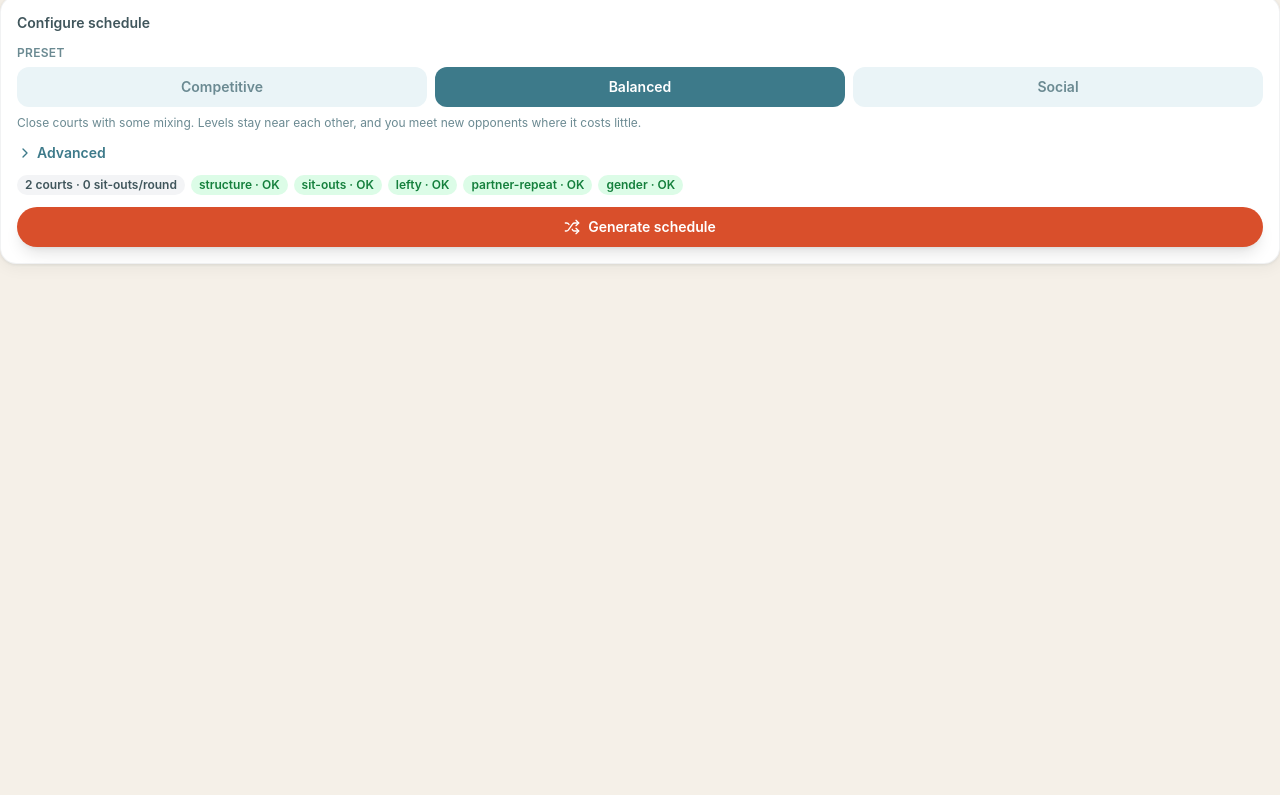
it: MatchmakingContainer — Fix repeat (M3.8, D-026) › cancel dismisses the panel without changing the preview
This screenshot has width=1280, height=795.
Click the button "Generate schedule".
click(640, 227)  # box [17,207,1263,247]
(page scrolled)
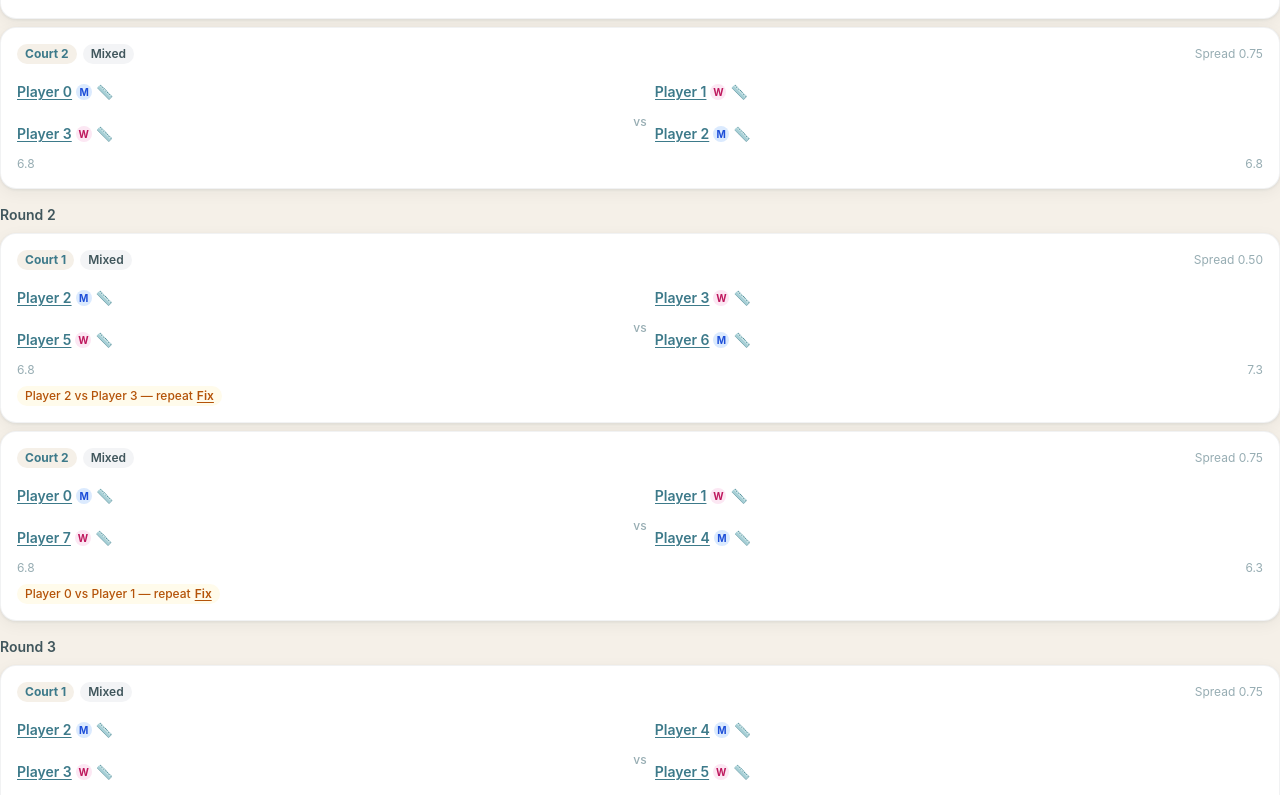
Click the 1st button "Fix".
click(205, 396)  # box [189,376,222,416]
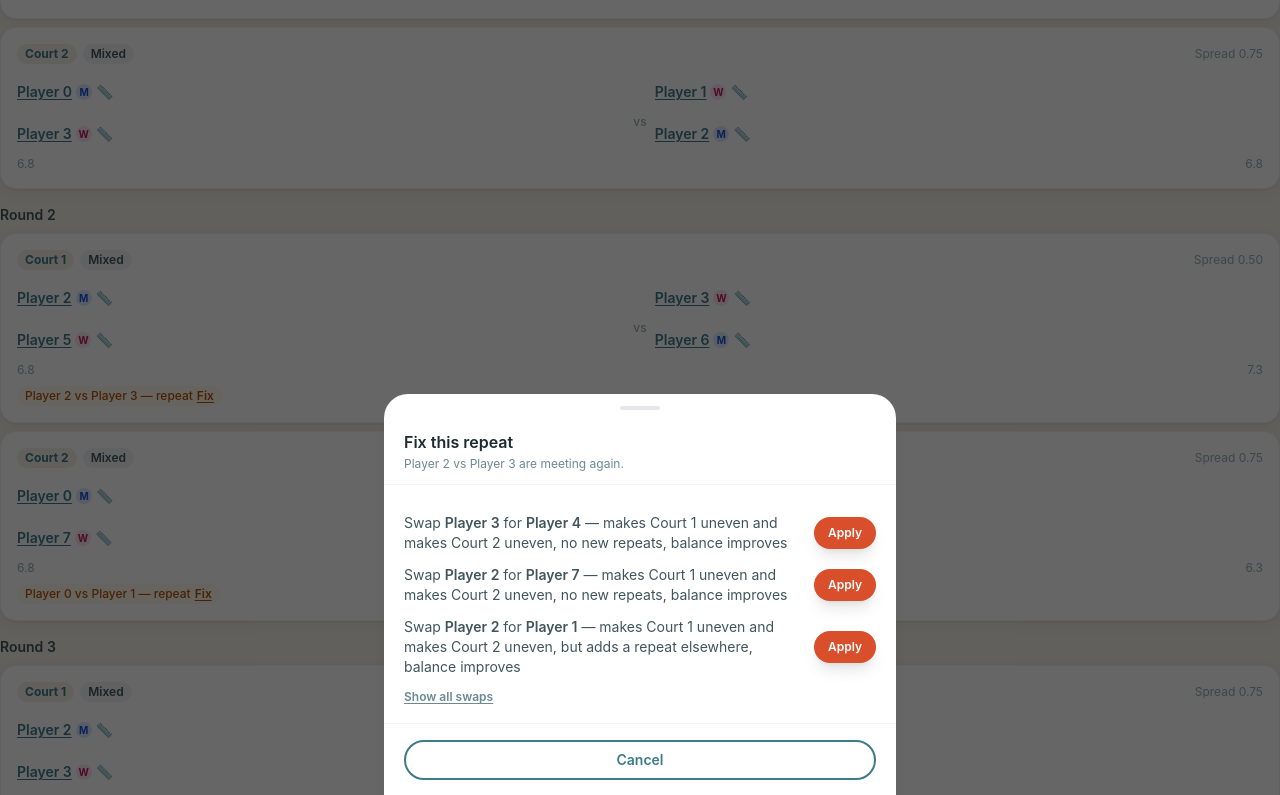
Now the heading "Fix this repeat" is shown, box [404,432,513,452]
Click the button "Cancel".
click(640, 760)  # box [404,740,876,780]
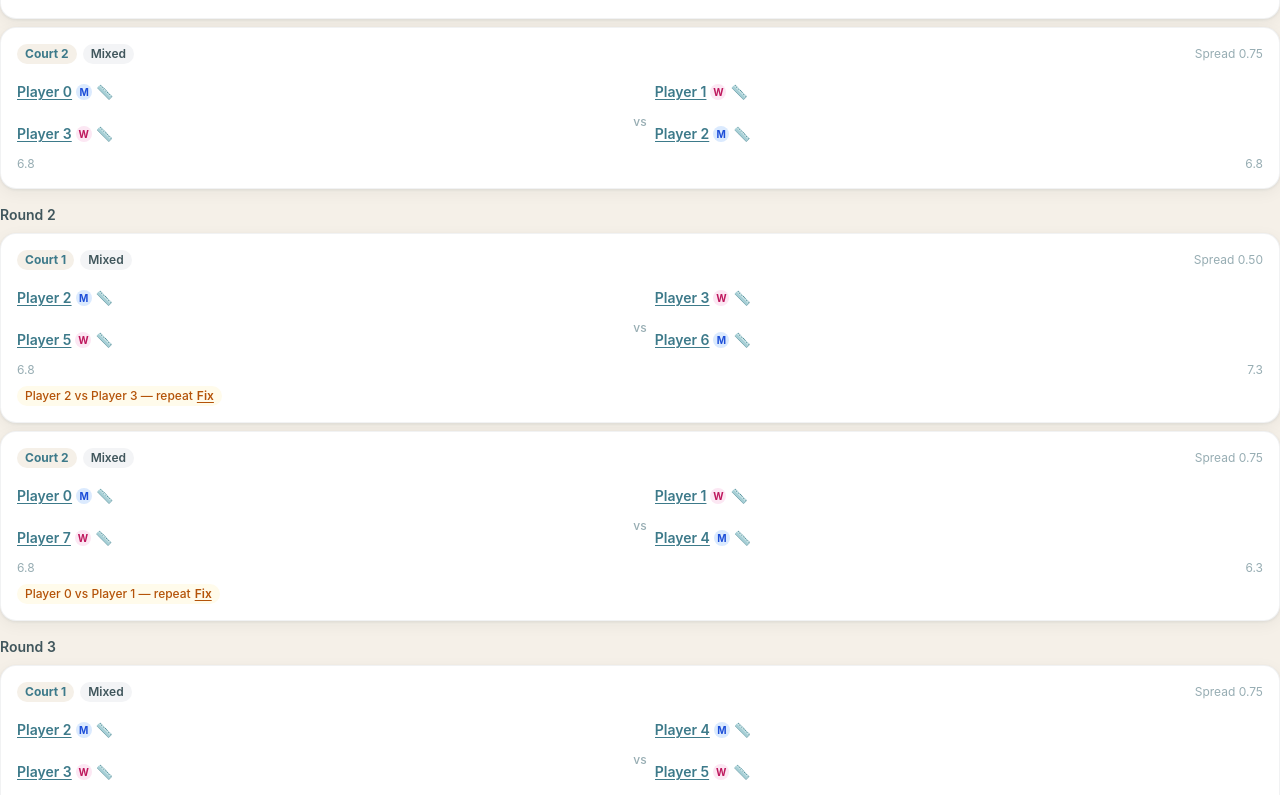
Now the heading "Fix this repeat" is gone
